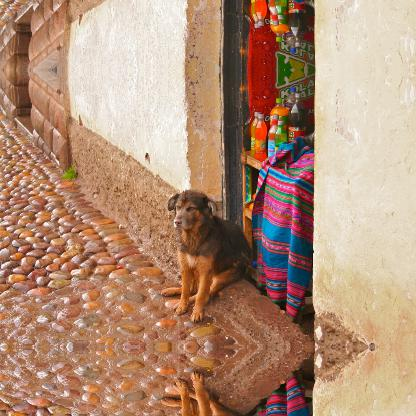Dog: (160, 186, 252, 322), (160, 370, 252, 415)
